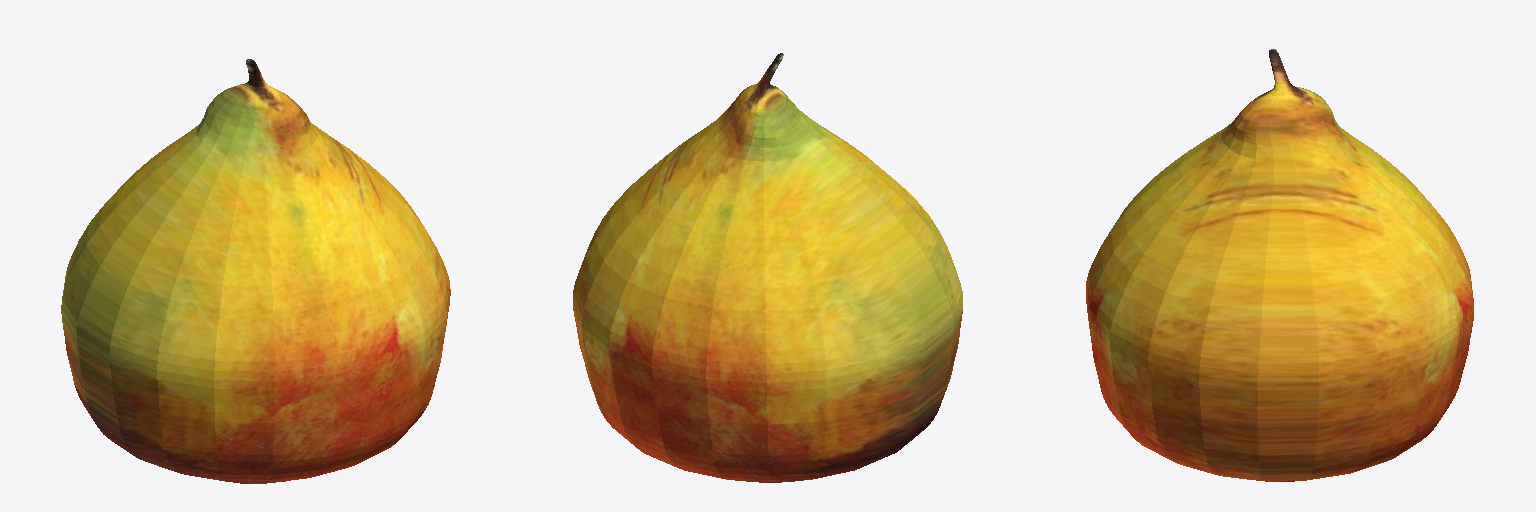
3 renders of one model, left to right at view 1: azimuth 30°, elevation 25°; view 2: azimuth 150°, elevation 25°; view 3: azimuth 270°, elevation 25°, orthographic.
Visible parts, largest first — view 1: 000_Cylinder_-_baked; view 2: 000_Cylinder_-_baked; view 3: 000_Cylinder_-_baked.
Boxes of the visible parts, x1,y1,x2,y2 form: 000_Cylinder_-_baked: [61, 59, 450, 483]; 000_Cylinder_-_baked: [573, 53, 962, 482]; 000_Cylinder_-_baked: [1086, 49, 1473, 481].
Bounding box in the file's own units: 173 × 198 × 173.
1 materials, 1 textured.